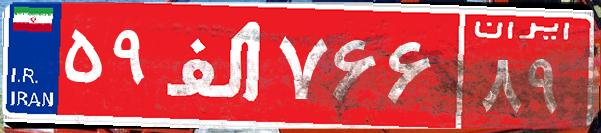5: (57, 26, 110, 107)
6: (385, 28, 445, 110), (330, 28, 385, 110)
7: (273, 28, 330, 110)
8: (475, 38, 525, 113)
9: (110, 28, 158, 105), (525, 38, 570, 115)
الف: (158, 15, 273, 115)
